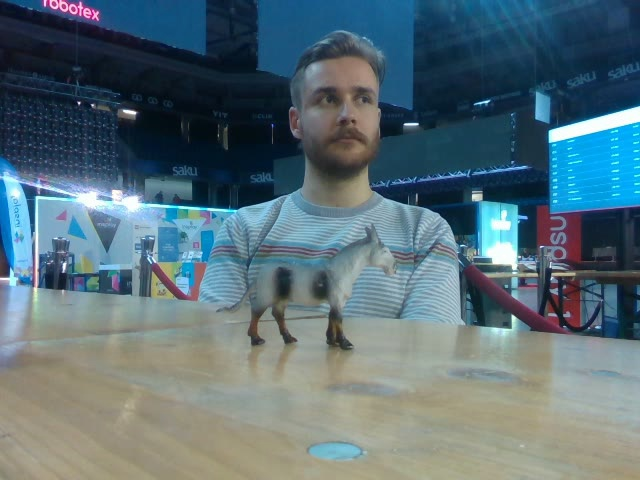toy: (214, 224, 396, 349)
